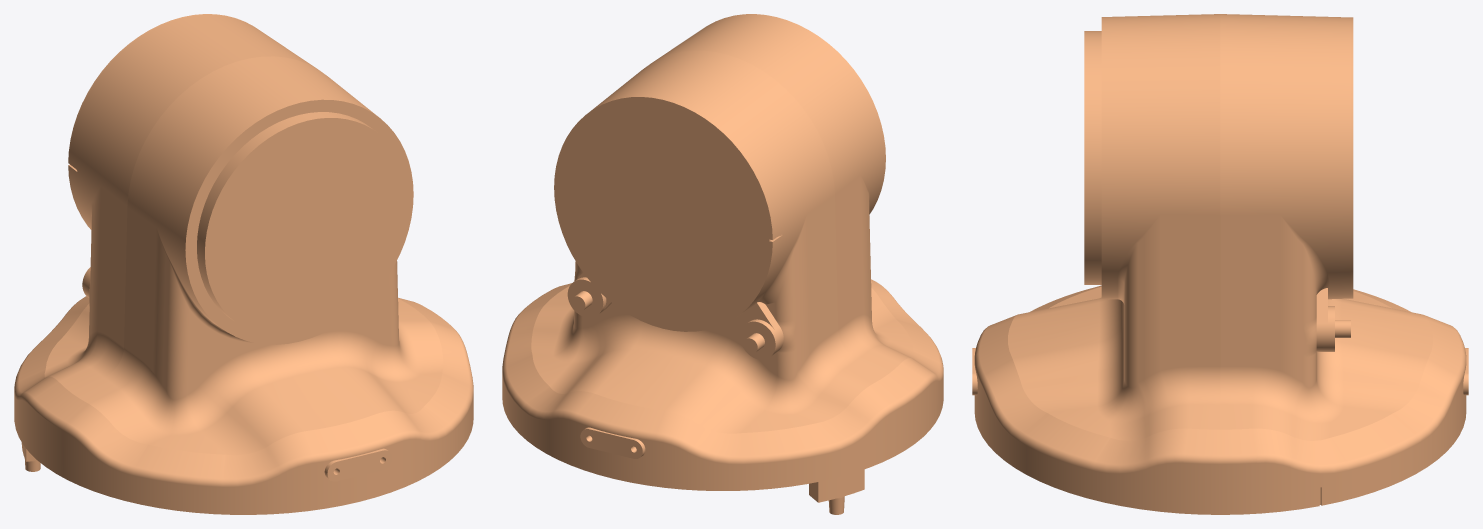
The model's file is lowerArm@4.glb.
The picture shows the model from 3 angles, left to right: view 1: azimuth 30°, elevation 25°; view 2: azimuth 150°, elevation 25°; view 3: azimuth 270°, elevation 25°; orthographic projection. The views are drawn at different scales.
Visible parts, largest first — view 1: irb_120-3_0_6\Corps; view 2: irb_120-3_0_6\Corps; view 3: irb_120-3_0_6\Corps.
Boxes of the visible parts, box(x1,y1,x2,y2) form: irb_120-3_0_6\Corps: box(14, 14, 473, 514); irb_120-3_0_6\Corps: box(502, 14, 943, 514); irb_120-3_0_6\Corps: box(972, 14, 1468, 514).
Size of the model in its own units: 8.46 by 8.19 by 8.54.
